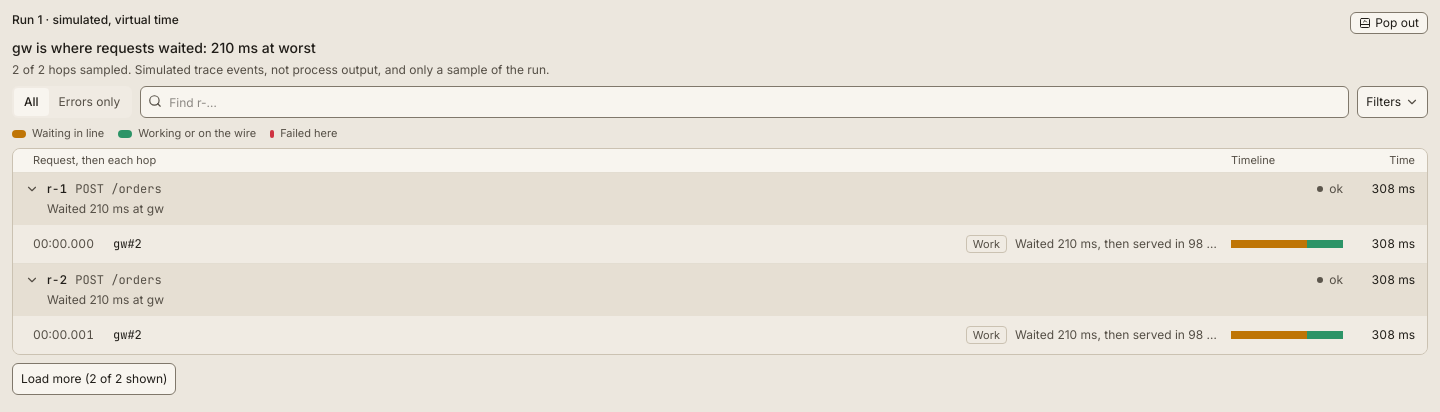
paging_appends_and_a_request_cut_by_the_page_edge_is_one_block
Expected: the text "r-1" is shown, [47,179,67,199]
Click the button "Load more (2 of 2 shown)" at (94, 379), box [12,363,176,395]
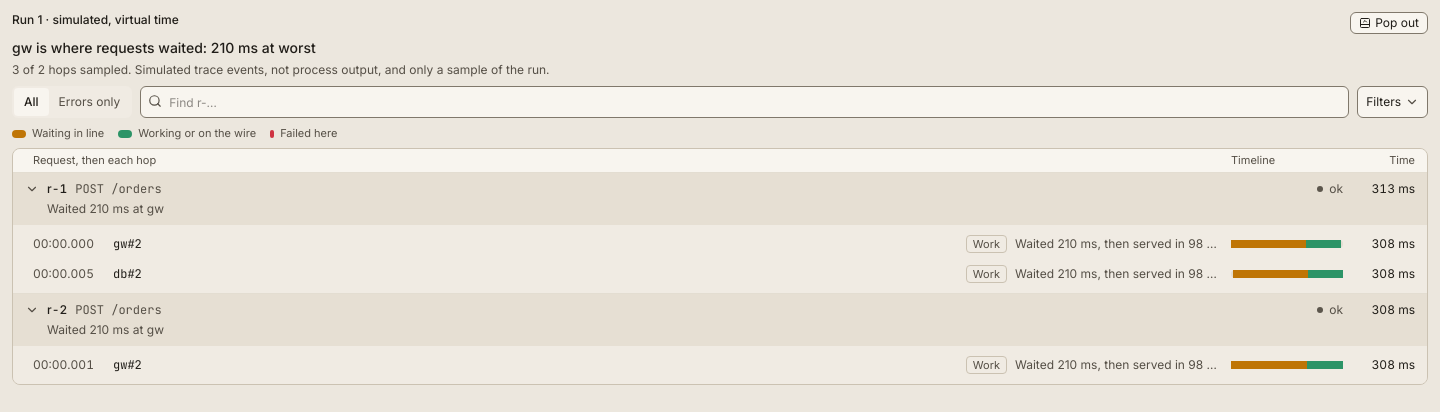
Expected: the text "r-1" is shown once, [47,179,67,199]
Expected: the text "db#2" is shown, [113,266,142,282]
Expected: the button "Load more" is gone
